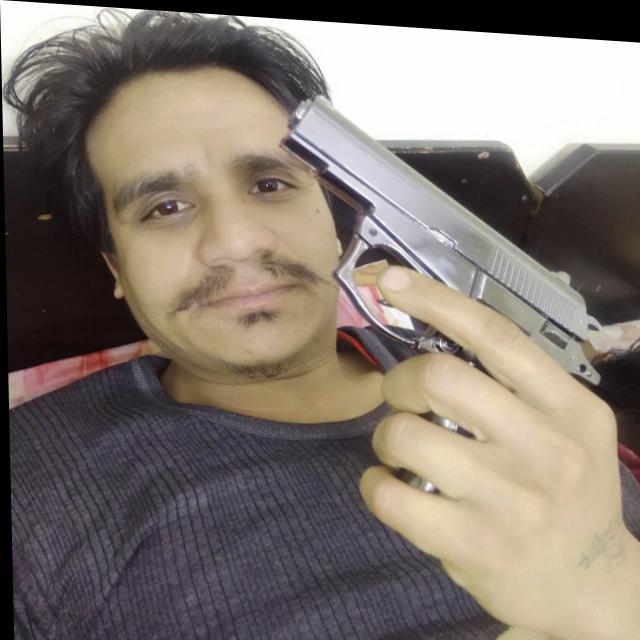weapon: (264, 78, 610, 564)
